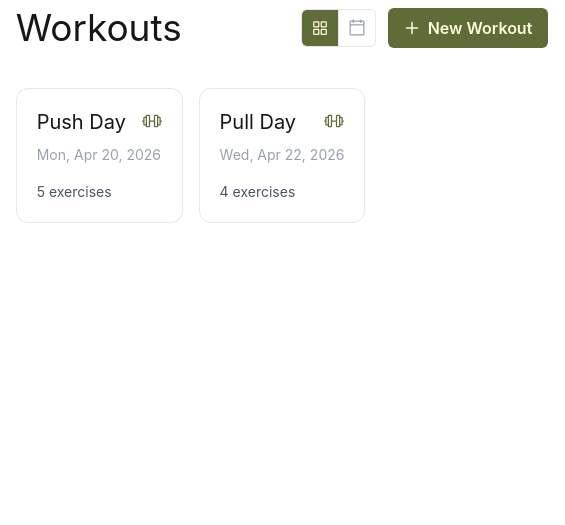
Test: WorkoutsView — calendar view › switches back to list view and shows workout cards again
Click the button named "Calendar view" at (356, 28), box [338,10,375,46]
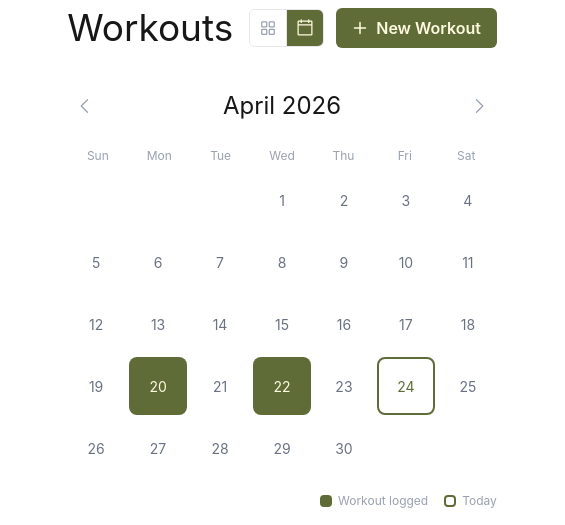
Click the button named "List view" at (268, 28), box [250,10,286,46]
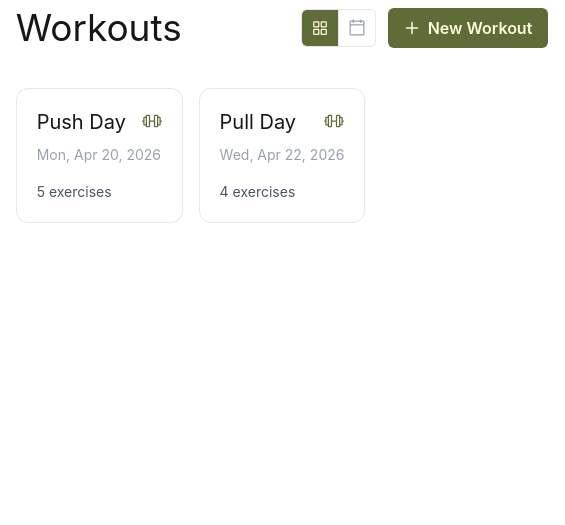
Check: the heading "Push Day" is shown, box [37,108,126,136]
Check: the heading "Pull Day" is shown, box [220,108,296,136]
